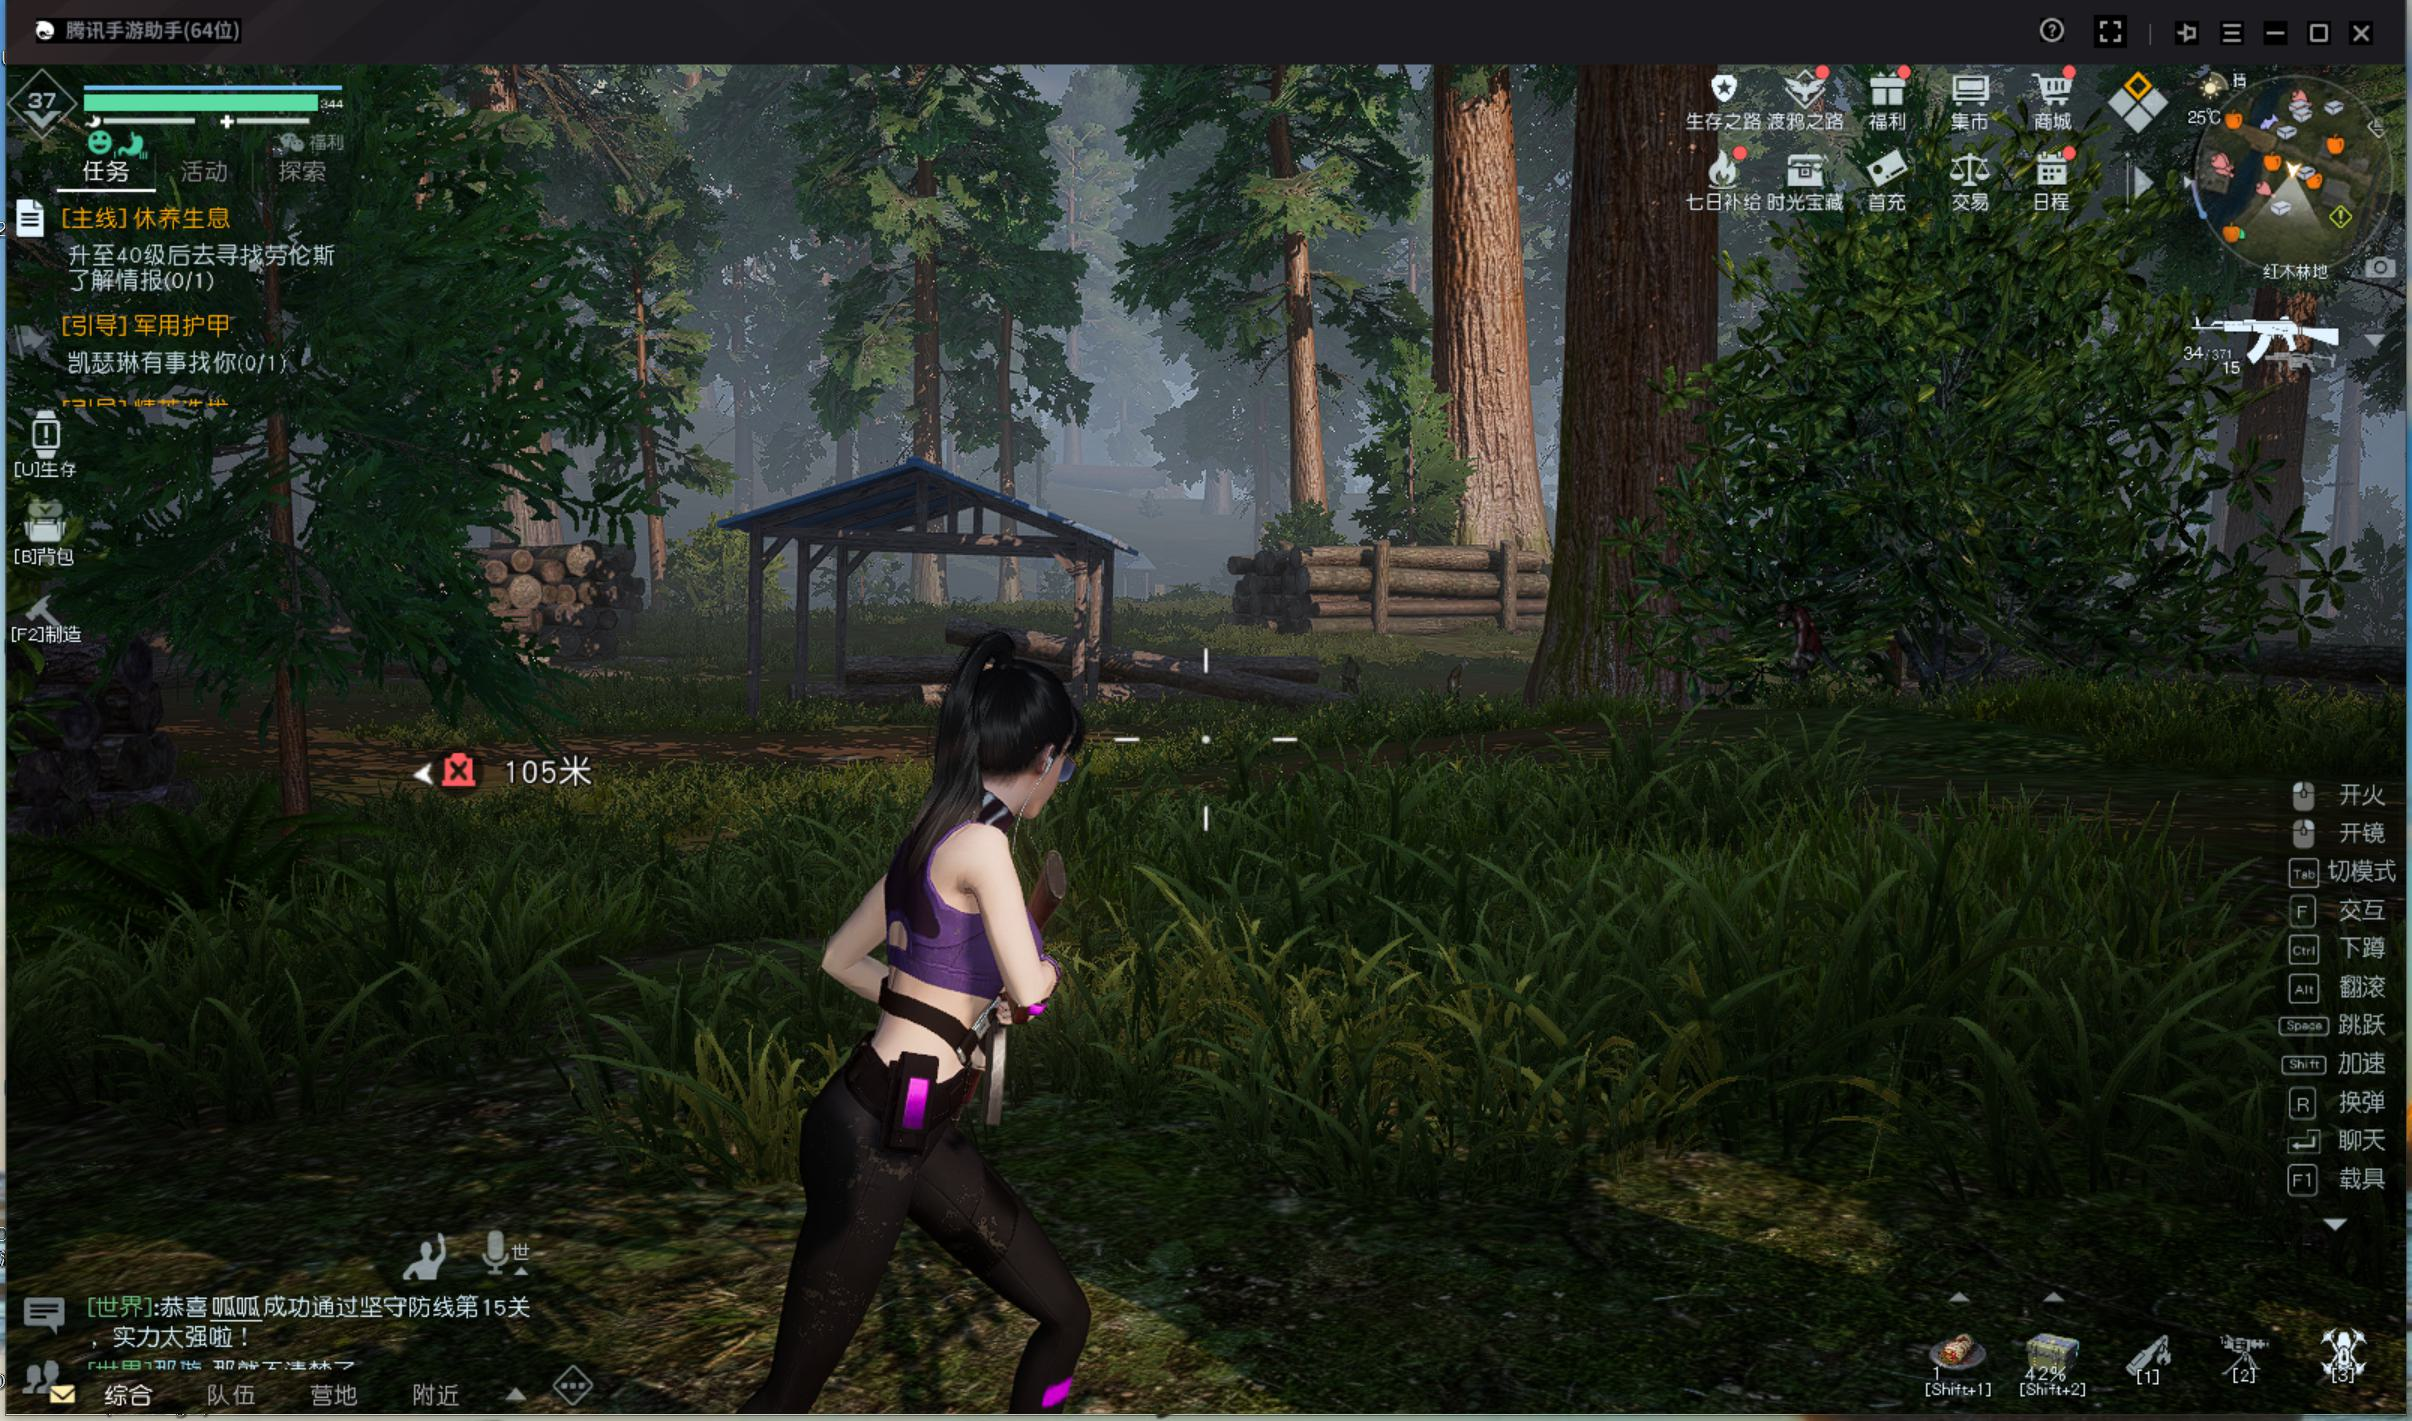tree: (1416, 118, 1551, 617), (1269, 240, 1333, 643), (900, 293, 956, 617)
